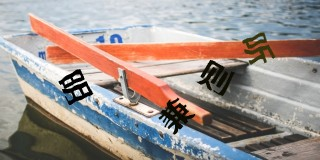兼: (160, 97, 195, 134)
则: (198, 59, 235, 96)
听: (242, 32, 275, 66)
明: (58, 68, 93, 105)
